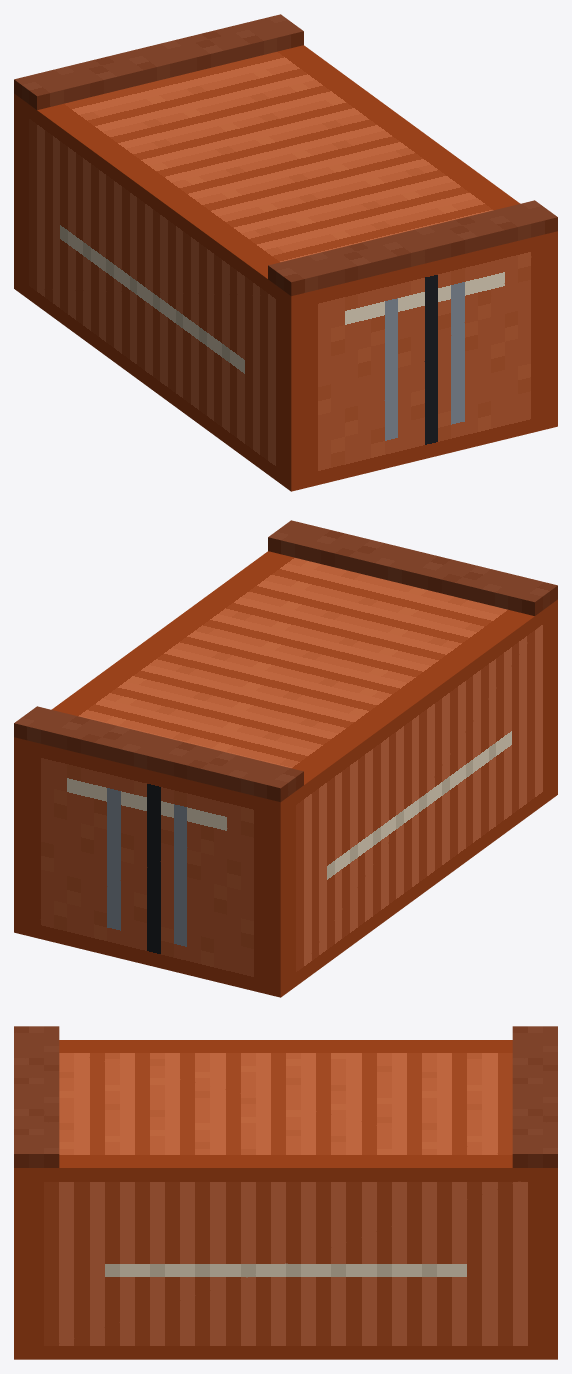
File: Env_Container.fbx
The picture shows the model from 3 angles, top to bottom: view 1: azimuth 30°, elevation 25°; view 2: azimuth 150°, elevation 25°; view 3: azimuth 270°, elevation 25°; orthographic projection.
Visible parts, largest first — view 1: container_body, roof_rail_B, roof_rail_F; view 2: container_body, roof_rail_F, roof_rail_B; view 3: container_body, roof_rail_F, roof_rail_B.
Part boxes in pixels (box(x1,y1,x2,y2)): container_body: box(14, 45, 557, 491); roof_rail_B: box(14, 14, 303, 109); roof_rail_F: box(268, 200, 557, 296); container_body: box(14, 551, 557, 997); roof_rail_F: box(268, 520, 557, 615); roof_rail_B: box(14, 706, 303, 802); container_body: box(14, 1040, 557, 1359); roof_rail_F: box(14, 1026, 59, 1167); roof_rail_B: box(512, 1026, 557, 1167).
Bounding box in the file's own units: 125 × 93.75 × 225.
1 material, 1 textured.
